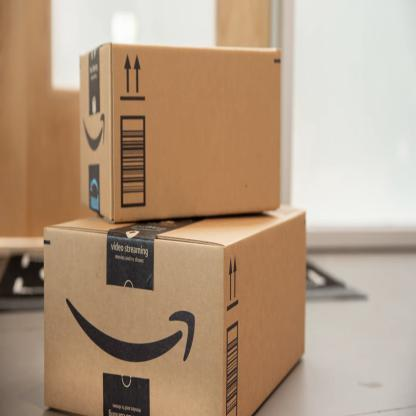package: (44, 203, 306, 415), (80, 40, 282, 224)
